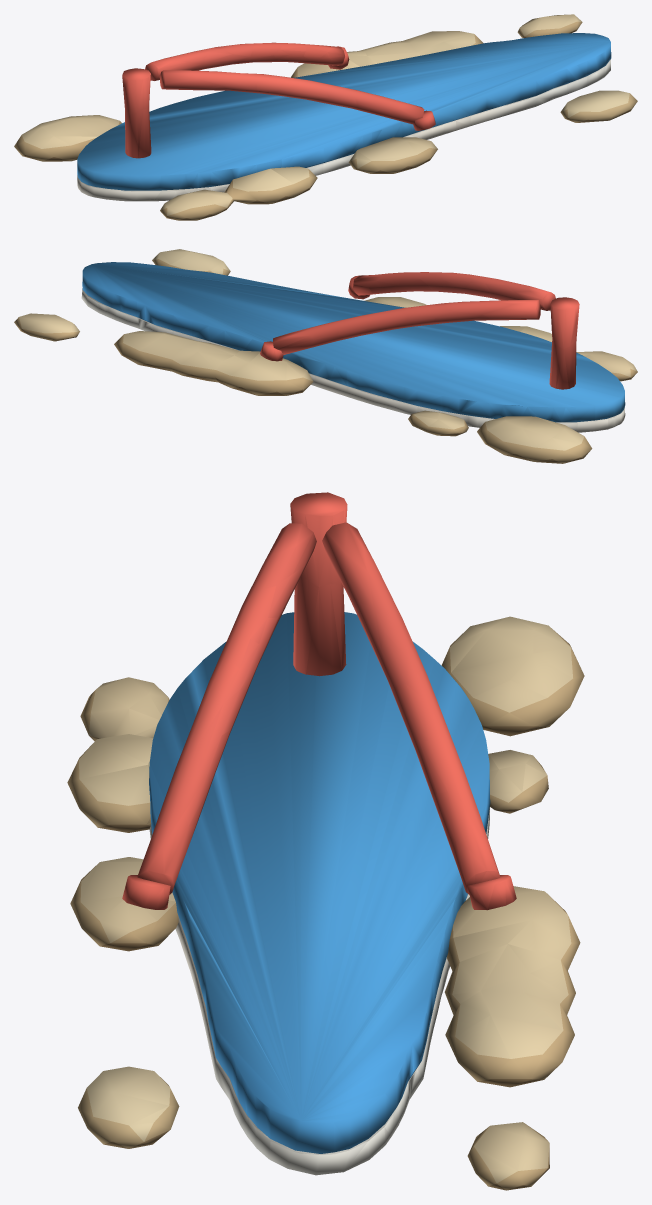
File: shore_flipflop_lod2.glb
3 views of the same model, one above another, from view 1: azimuth 30°, elevation 25°; view 2: azimuth 150°, elevation 25°; view 3: azimuth 270°, elevation 25° (orthographic). The views are drawn at different scales.
Visible parts, largest first — view 1: shore_flipflop.001; view 2: shore_flipflop.001; view 3: shore_flipflop.001.
Boxes of the visible parts, bbox=[...] form: shore_flipflop.001: bbox=[14, 14, 637, 220]; shore_flipflop.001: bbox=[14, 249, 637, 463]; shore_flipflop.001: bbox=[67, 492, 584, 1190].
Size of the model in its own units: 48.78 by 9.2 by 19.52.
